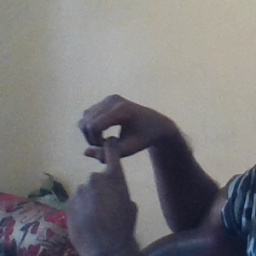Q: (63, 93, 168, 235)
